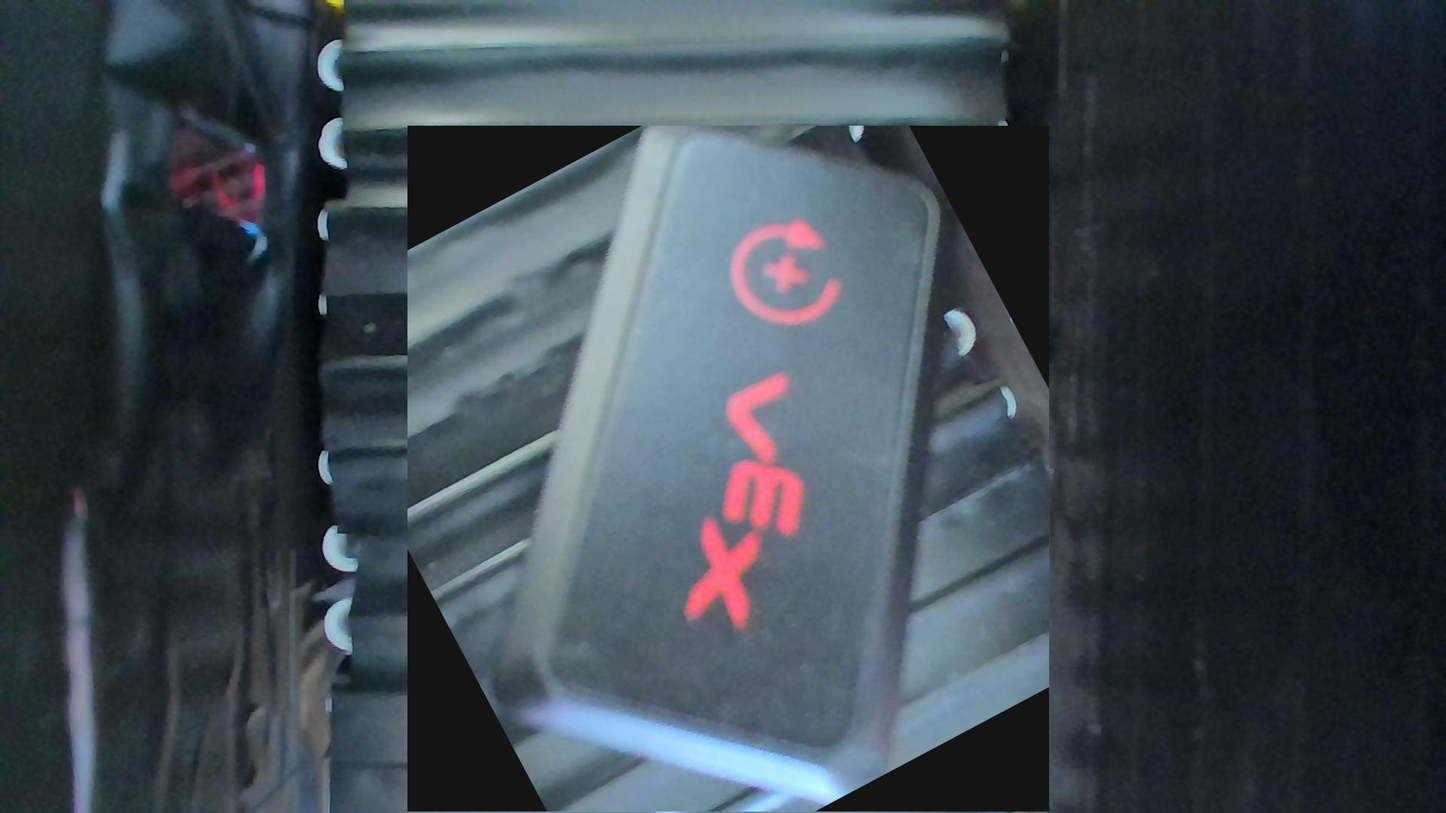motor: (408, 126, 1049, 813)
